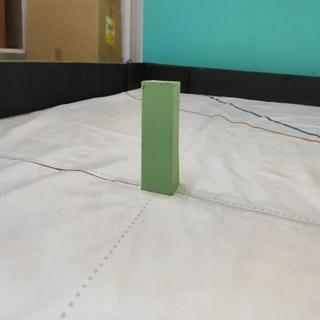greenbox: (141, 80, 180, 197)
